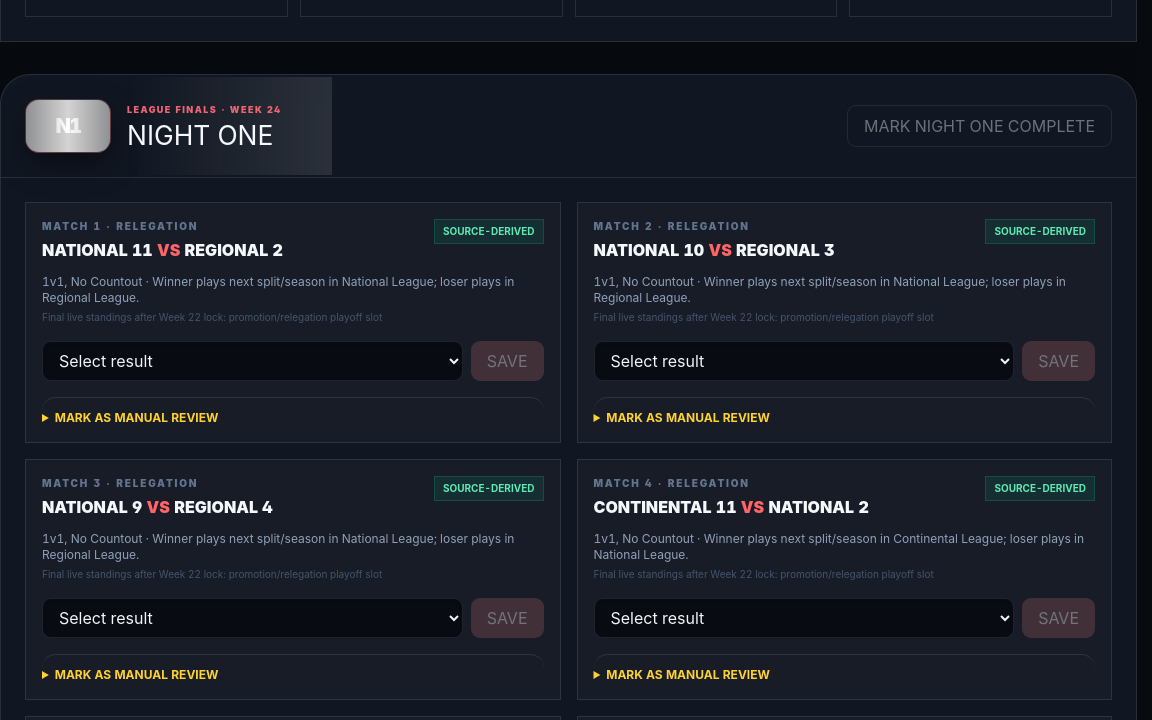
League Finals result input › enables Save after selection and persists the saved result
(page scrolled)
Expected: the button "Save" below "Regional 2" is disabled, [471,341,544,381]
Select "National 11 wins" in the dropdown named "Result for league-finals:night-one:match-1" at (252, 361), box [42,341,463,381]
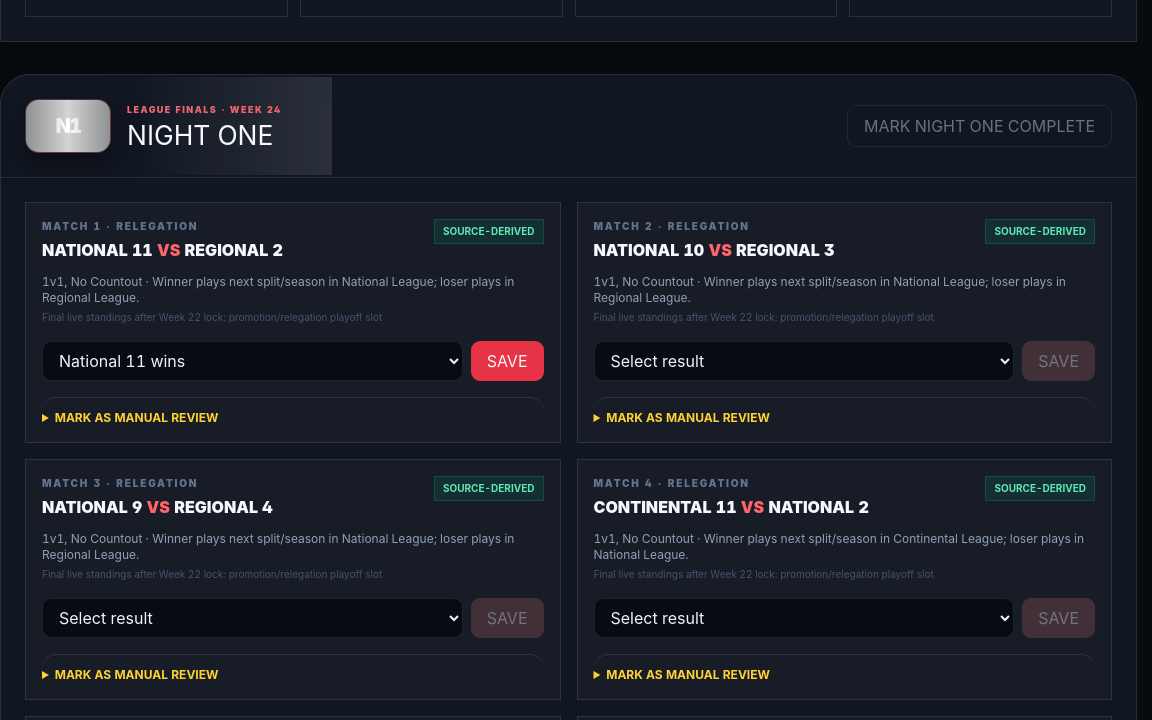
Expected: the button "Save" below "Regional 2" is enabled
Click the button "Save" below "Regional 2" at (507, 361), box [471,341,544,381]
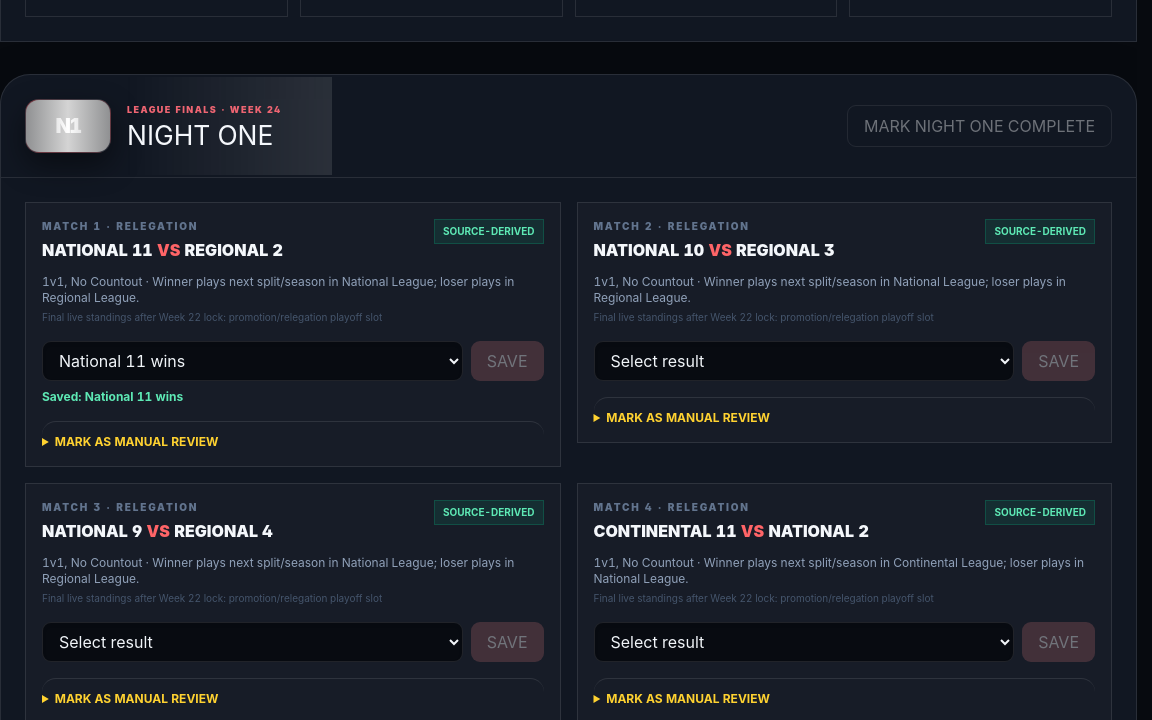
Expected: the text "Saved: National 11 wins" is shown, [42,389,183,404]
Expected: the button "Save" below "Regional 2" is disabled, [471,341,544,381]
